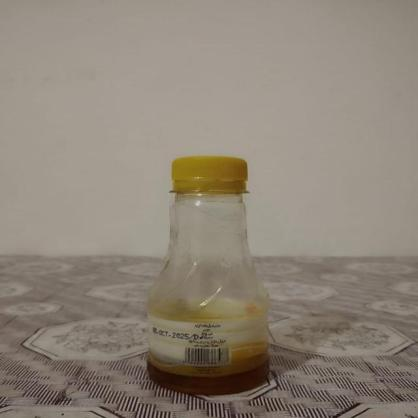bottle: (136, 147, 270, 402)
cap: (161, 150, 253, 202)
label: (130, 306, 277, 371)
